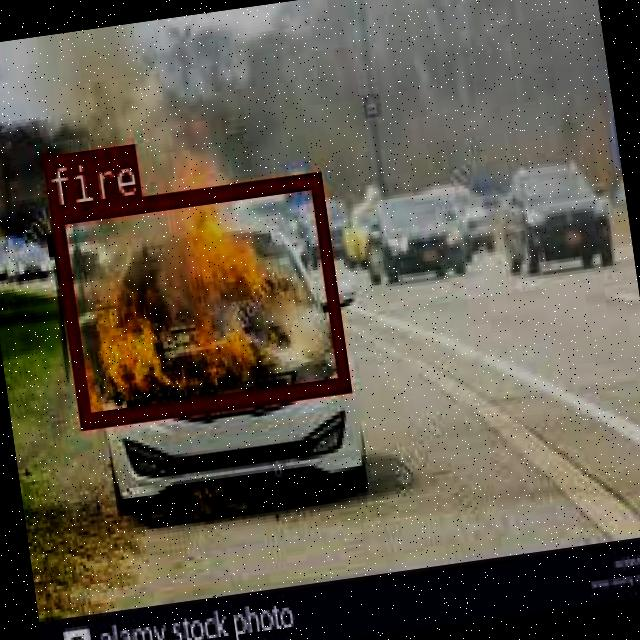fire: (50, 171, 349, 426)
